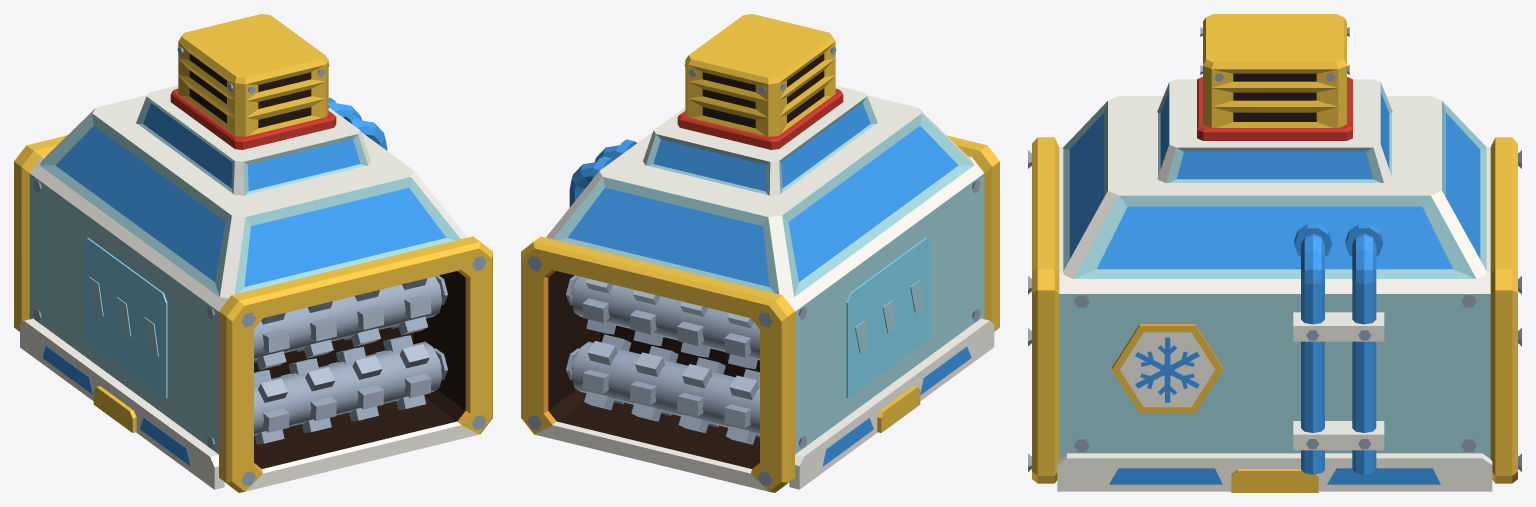
Rendered from SnowProcessorTower.glb.
3 renders of one model, left to right at view 1: azimuth 30°, elevation 25°; view 2: azimuth 150°, elevation 25°; view 3: azimuth 270°, elevation 25°, orthographic. The views are drawn at different scales.
Visible parts, largest first — view 1: ProcessorTower, Front_Lower, Front_Upper; view 2: ProcessorTower, Rear_Lower, Rear_Upper; view 3: ProcessorTower.
Part boxes in pixels (x1,y1,x2,y2): ProcessorTower: (14,14,492,492); Front_Lower: (254,335,441,444); Front_Upper: (254,276,441,369); ProcessorTower: (521,14,999,492); Rear_Lower: (572,334,759,444); Rear_Upper: (572,276,759,369); ProcessorTower: (1028,14,1521,492).
Size of the model in its own units: 2.67 by 2.93 by 3.45.
Materials: 1 (1 with a texture image).
